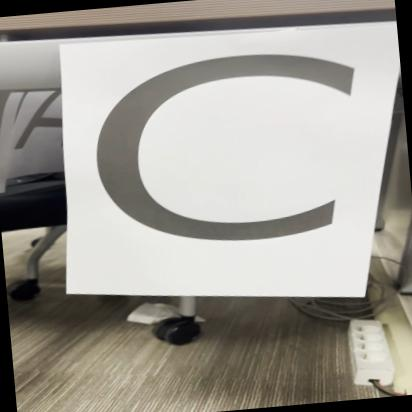seat: (50, 0, 412, 344)
